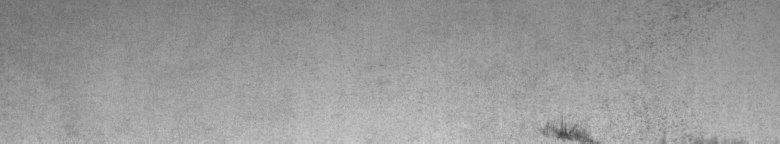ib: (539, 4, 715, 136)
